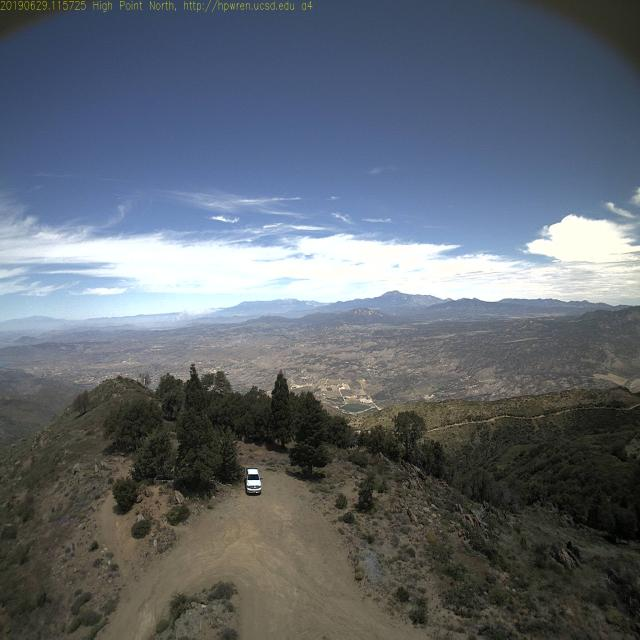smoke: (168, 300, 225, 331)
